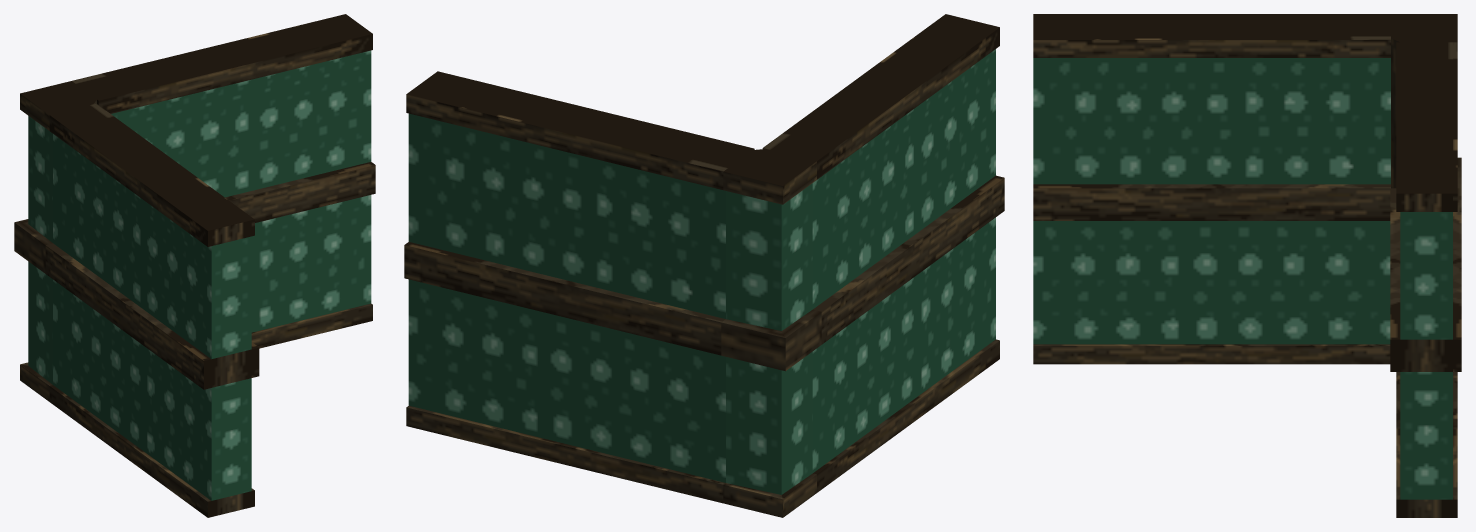
Rendered from Wall Style 1 Corner_V3.fbx.
3 renders of one model, left to right at view 1: azimuth 30°, elevation 25°; view 2: azimuth 150°, elevation 25°; view 3: azimuth 270°, elevation 25°, orthographic. The views are drawn at different scales.
Parts seen in each view (by area): view 1: Wall Style 1 Corner Piece_V2; view 2: Wall Style 1 Corner Piece_V2; view 3: Wall Style 1 Corner Piece_V2.
Part boxes in pixels (left/top/right/bottom): Wall Style 1 Corner Piece_V2: left=14, top=14, right=375, bottom=517; Wall Style 1 Corner Piece_V2: left=404, top=14, right=1004, bottom=517; Wall Style 1 Corner Piece_V2: left=1033, top=14, right=1461, bottom=517.
Bounding box in the file's own units: 120 × 100 × 120.
